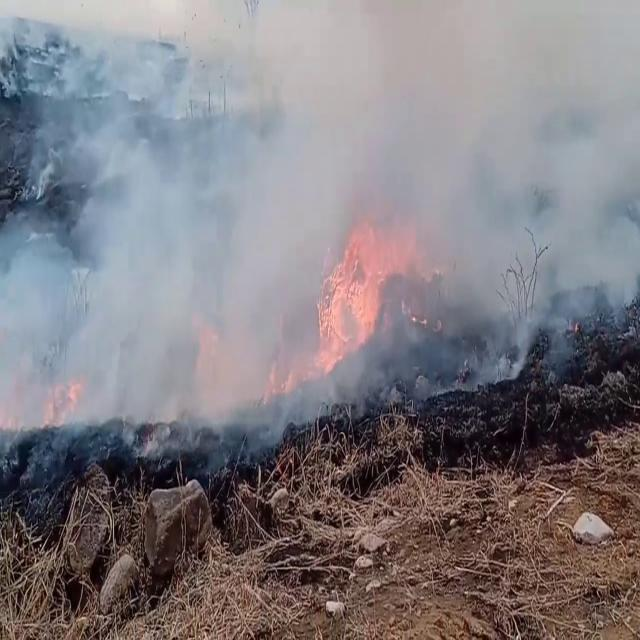Fire: (306, 194, 391, 378)
Smoke: (1, 0, 638, 412)
